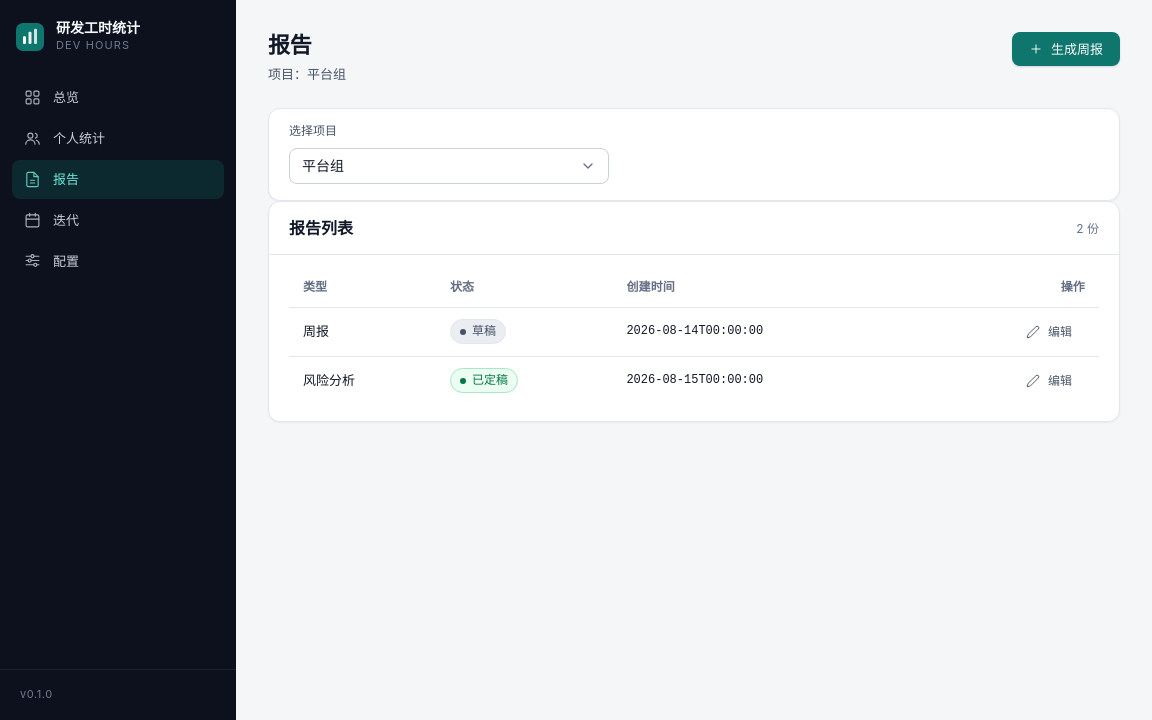
Test: ReportListPage › 生成周报失败（LLM 未配置）时展示红色 alert 与后端错误信息
What coordinates should you click on to do the following:
click the button "生成周报"
I would click on:
 (1066, 49)
Its box is x1=1012 y1=32 x2=1120 y2=66.
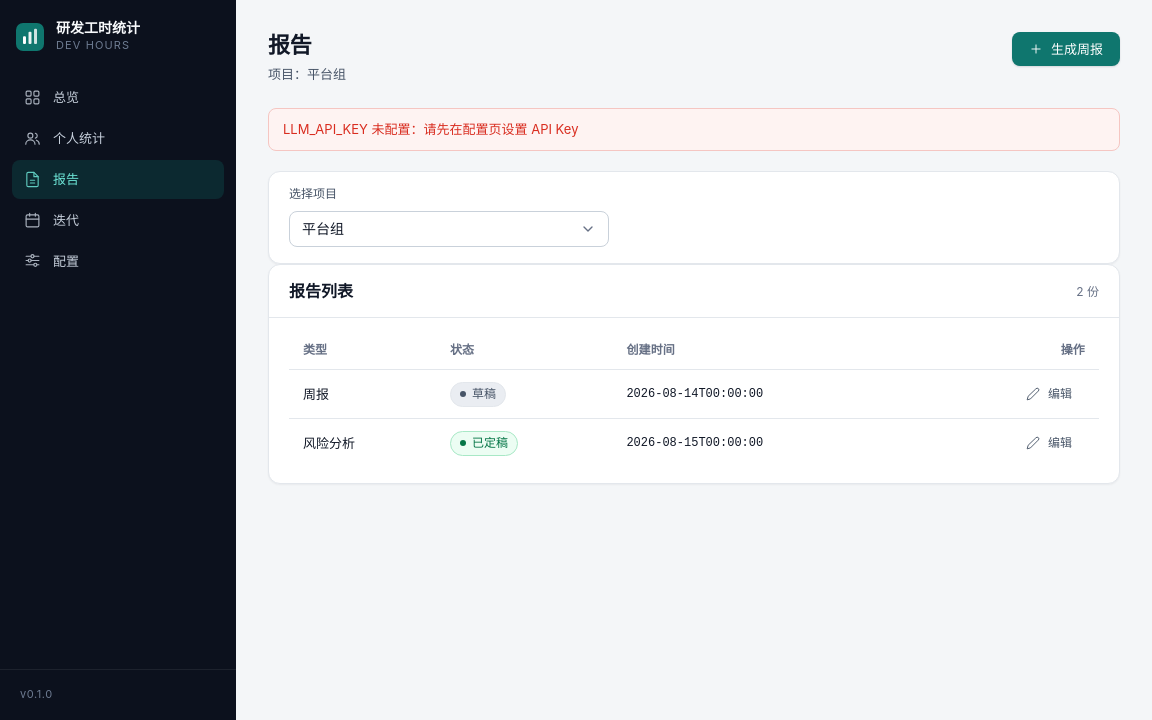
Expected: the message reads "LLM_API_KEY 未配置：请先在配置页设置 API Key", x1=283 y1=121 x2=578 y2=137
